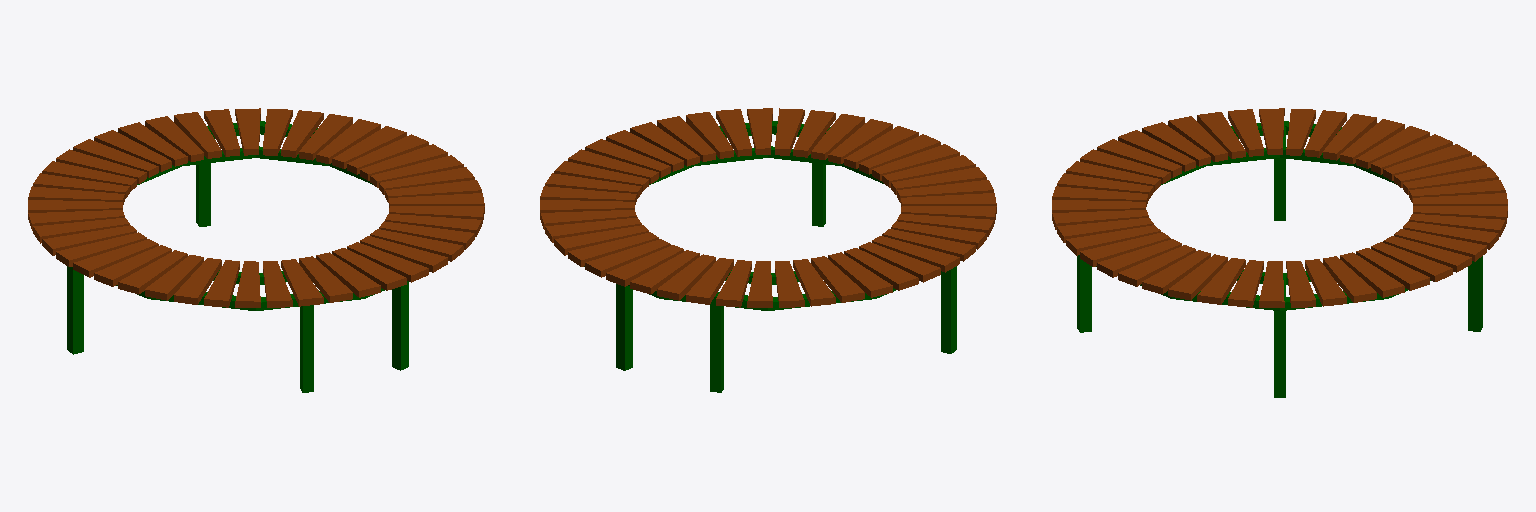
File: Bench_Tree_Flat_Base.obj
3 views of the same model, side by side, from view 1: azimuth 30°, elevation 25°; view 2: azimuth 150°, elevation 25°; view 3: azimuth 270°, elevation 25° (orthographic).
Visible parts, largest first — view 1: Mesh57 leg10 Model, Mesh42 leg6 Model, Mesh41 leg5 Model, Mesh1 slat2_1 Model, Mesh38 slat2_32 Model, Mesh26 slat2_20 Model, Mesh44 slat2_36 Model, Mesh12 slat2_6 Model, Mesh19 slat2_13 Model, Mesh7 slat2_3 Model, Mesh37 slat2_31 Model, Mesh47 slat2_39 Model (+28 smaller); view 2: Mesh55 leg8 Model, Mesh42 leg6 Model, Mesh56 leg9 Model, Mesh14 slat2_8 Model, Mesh23 slat2_17 Model, Mesh13 slat2_7 Model, Mesh43 slat2_35 Model, Mesh33 slat2_27 Model, Mesh30 slat2_24 Model, Mesh48 slat2_40 Model, Mesh25 slat2_19 Model, Mesh17 slat2_11 Model (+28 smaller); view 3: Mesh21 slat2_15 Model, Mesh45 slat2_37 Model, Mesh46 slat2_38 Model, Mesh20 slat2_14 Model, Mesh27 slat2_21 Model, Mesh49 slat2_41 Model, Mesh28 slat2_22 Model, Mesh2 slat2_2 Model, Mesh51 slat2_43 Model, Mesh40 slat2_34 Model, Mesh15 slat2_9 Model, Mesh26 slat2_20 Model (+28 smaller).
Boxes of the visible parts, x1=… form: Mesh57 leg10 Model: x1=392, y1=281, x2=408, y2=370; Mesh42 leg6 Model: x1=67, y1=266, x2=83, y2=354; Mesh41 leg5 Model: x1=300, y1=305, x2=313, y2=392; Mesh1 slat2_1 Model: x1=316, y1=252, x2=380, y2=297; Mesh38 slat2_32 Model: x1=145, y1=255, x2=203, y2=300; Mesh26 slat2_20 Model: x1=118, y1=250, x2=187, y2=294; Mesh44 slat2_36 Model: x1=332, y1=248, x2=406, y2=290; Mesh12 slat2_6 Model: x1=299, y1=256, x2=352, y2=302; Mesh19 slat2_13 Model: x1=94, y1=245, x2=171, y2=286; Mesh7 slat2_3 Model: x1=347, y1=242, x2=428, y2=282; Mesh37 slat2_31 Model: x1=73, y1=239, x2=158, y2=277; Mesh47 slat2_39 Model: x1=360, y1=236, x2=447, y2=272; Mesh55 leg8 Model: x1=616, y1=284, x2=632, y2=370; Mesh42 leg6 Model: x1=941, y1=266, x2=956, y2=353; Mesh56 leg9 Model: x1=710, y1=305, x2=723, y2=392; Mesh14 slat2_8 Model: x1=828, y1=252, x2=892, y2=297; Mesh23 slat2_17 Model: x1=657, y1=254, x2=715, y2=300; Mesh13 slat2_7 Model: x1=630, y1=250, x2=699, y2=294; Mesh43 slat2_35 Model: x1=844, y1=248, x2=918, y2=290; Mesh33 slat2_27 Model: x1=811, y1=256, x2=864, y2=302; Mesh30 slat2_24 Model: x1=606, y1=245, x2=683, y2=286; Mesh48 slat2_40 Model: x1=859, y1=242, x2=940, y2=282; Mesh25 slat2_19 Model: x1=585, y1=239, x2=670, y2=277; Mesh17 slat2_11 Model: x1=686, y1=258, x2=733, y2=304; Mesh21 slat2_15 Model: x1=1168, y1=254, x2=1227, y2=300; Mesh45 slat2_37 Model: x1=1340, y1=252, x2=1404, y2=297; Mesh46 slat2_38 Model: x1=1142, y1=250, x2=1210, y2=294; Mesh20 slat2_14 Model: x1=1323, y1=256, x2=1376, y2=302; Mesh27 slat2_21 Model: x1=1356, y1=248, x2=1429, y2=290; Mesh49 slat2_41 Model: x1=1118, y1=245, x2=1195, y2=286; Mesh28 slat2_22 Model: x1=1371, y1=242, x2=1452, y2=281; Mesh2 slat2_2 Model: x1=1097, y1=239, x2=1181, y2=277; Mesh51 slat2_43 Model: x1=1197, y1=258, x2=1245, y2=304; Mesh40 slat2_34 Model: x1=1383, y1=236, x2=1471, y2=272; Mesh15 slat2_9 Model: x1=1080, y1=232, x2=1170, y2=266; Mesh26 slat2_20 Model: x1=1168, y1=116, x2=1227, y2=161.
Size of the model in its own units: 76.09 by 18.75 by 76.05.